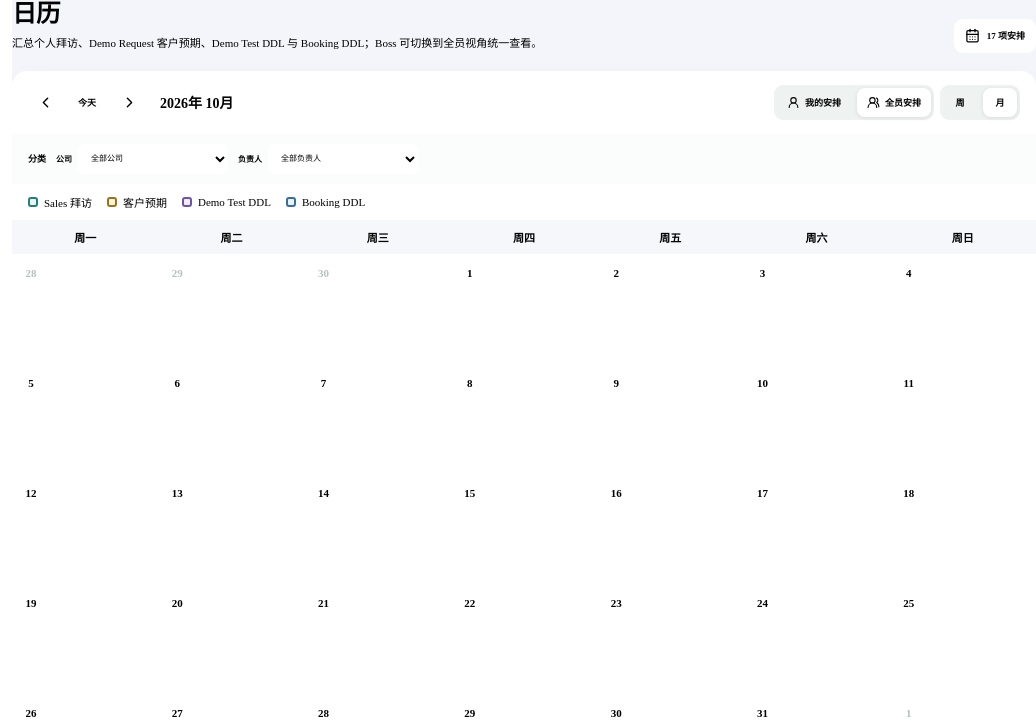
Test: P1 business workspace › renders upstream schedules in month and week Calendar views for Boss
Select "示例企业003有限公司" in the dropdown named "公司" at point(153, 159), box [78, 144, 228, 174]
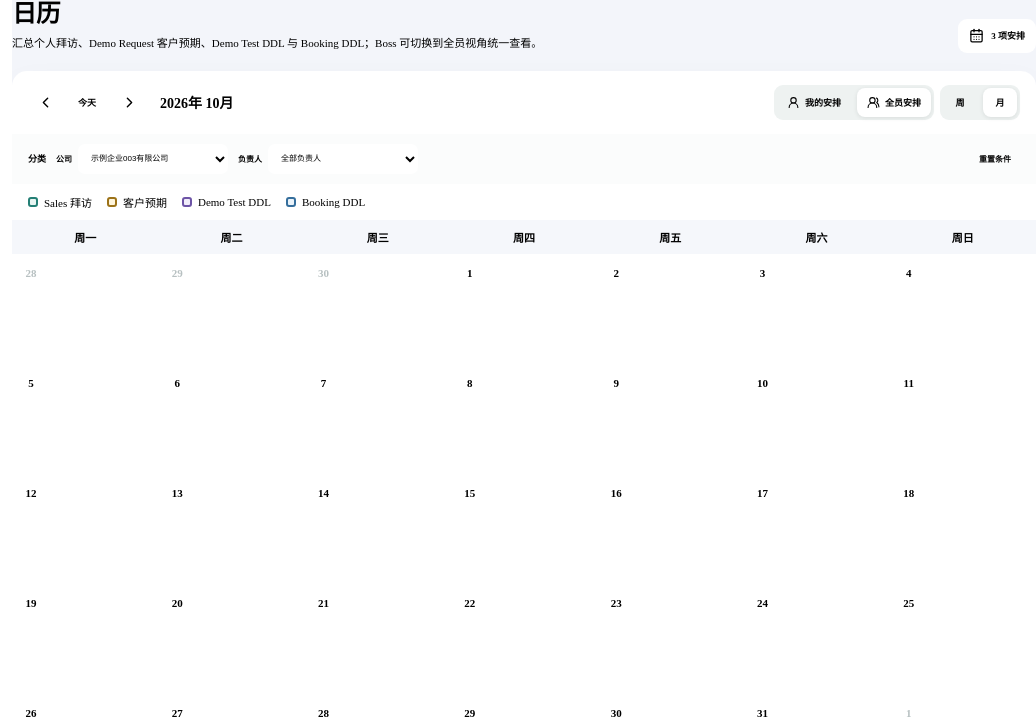
Click the button "重置条件".
click(995, 159)  # box [970, 147, 1020, 170]
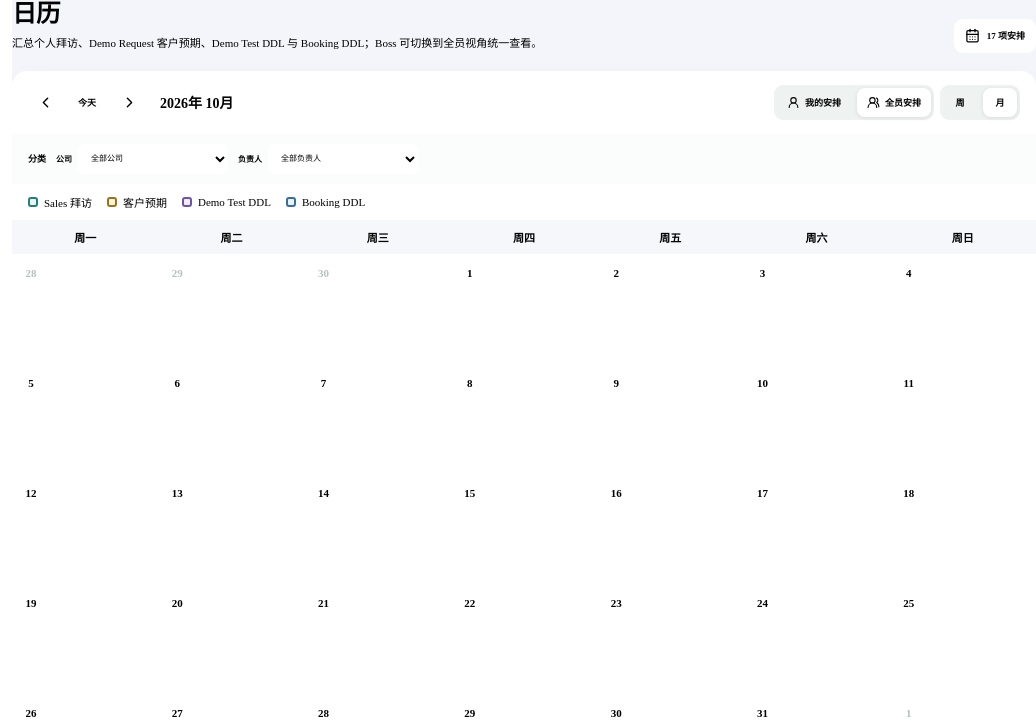
Select "Demo Staff 01" in the dropdown named "负责人" at point(343, 159), box [268, 144, 418, 174]
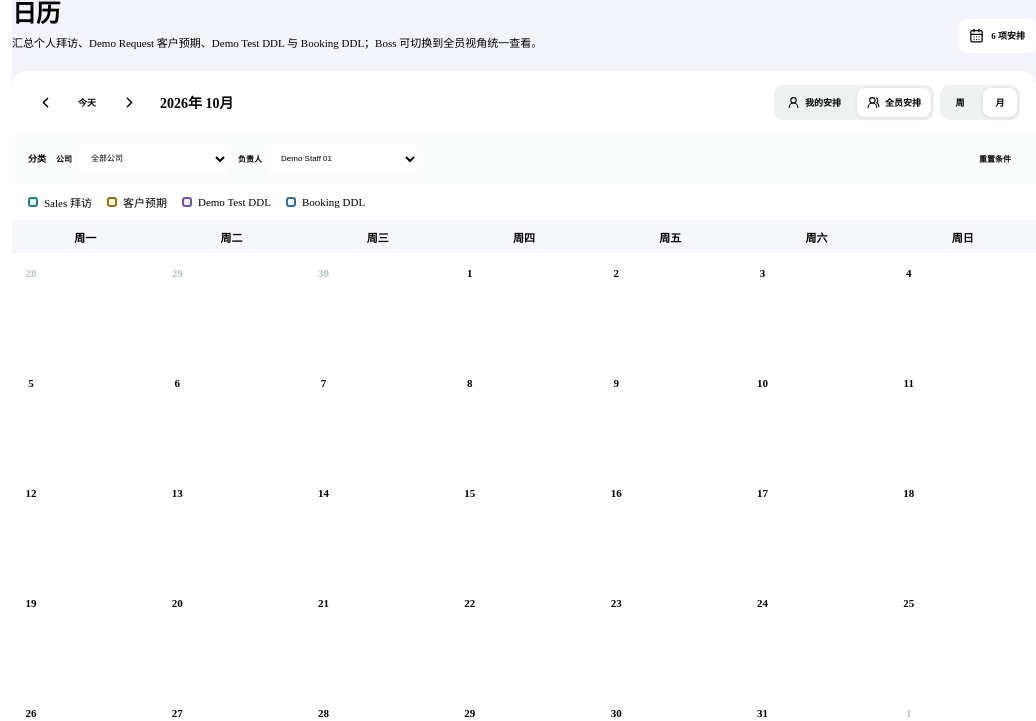
Click the button "周".
click(960, 102)  # box [943, 88, 977, 117]
(page scrolled)
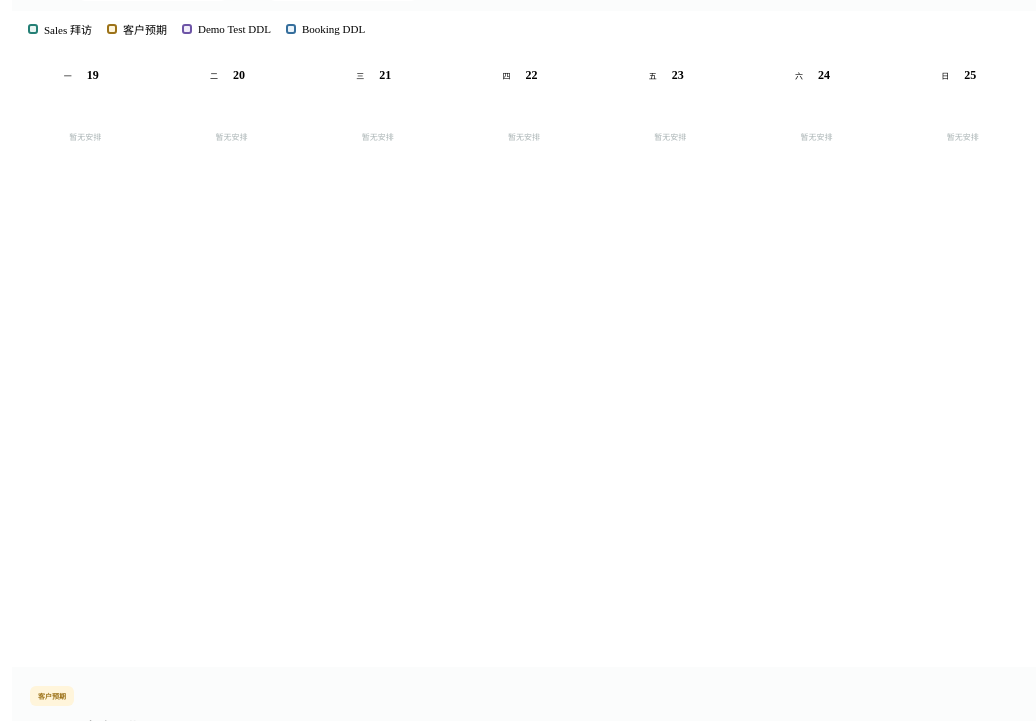
Expected: the element with class "week-view" is shown, [64, 68, 979, 142]
